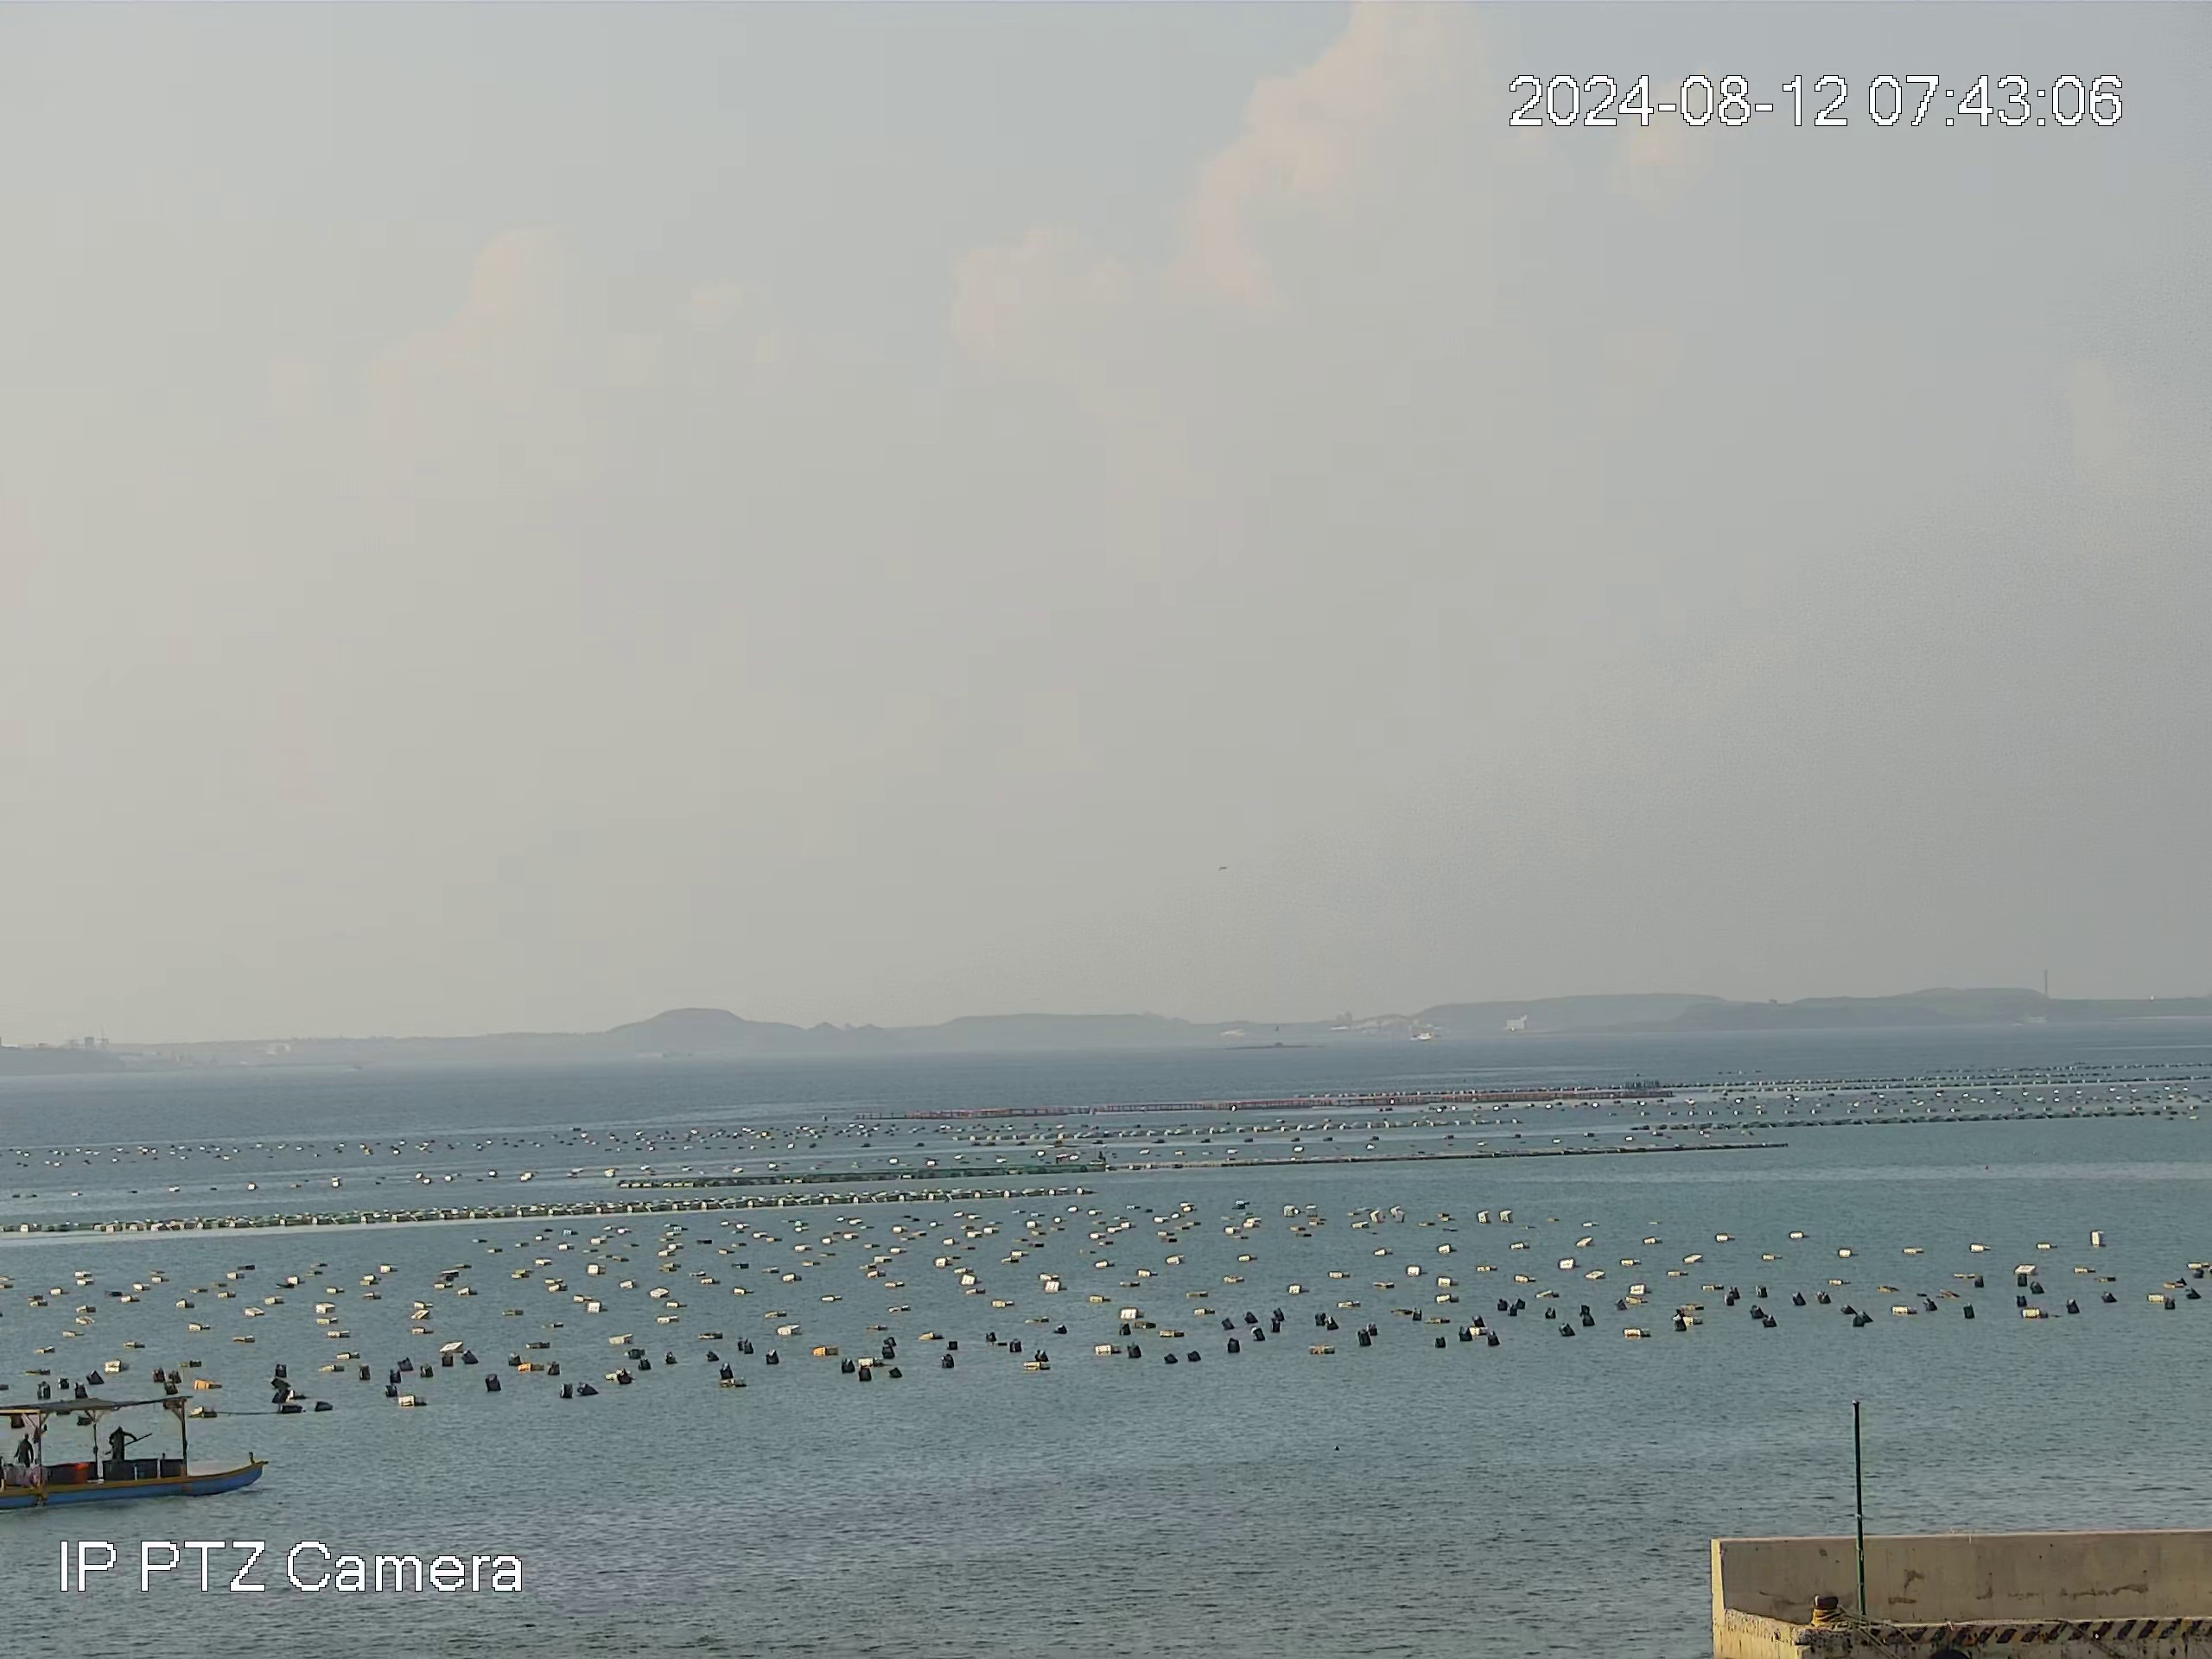boat: (0, 1396, 277, 1514)
